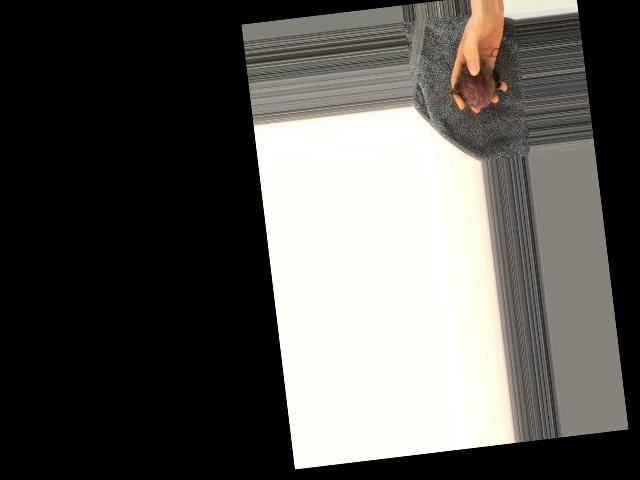beet: (420, 58, 502, 115)
